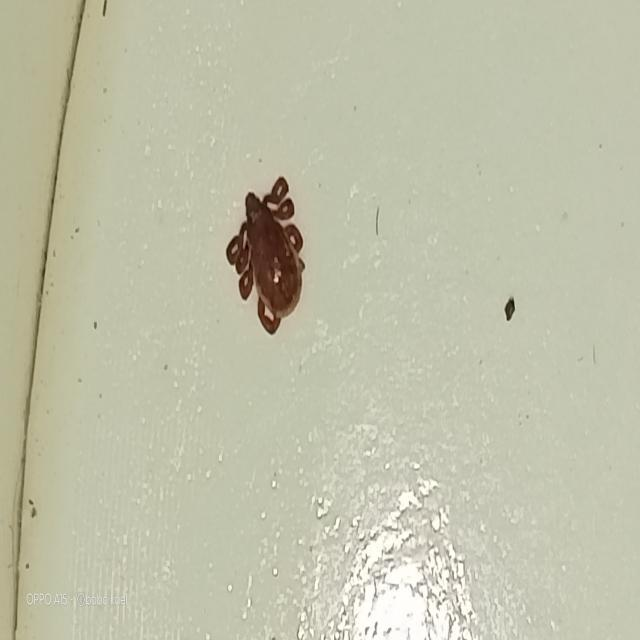Rhipicephalus Sanguineus-M: (227, 177, 308, 335)
